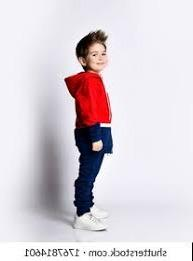Human: (59, 26, 136, 234)
